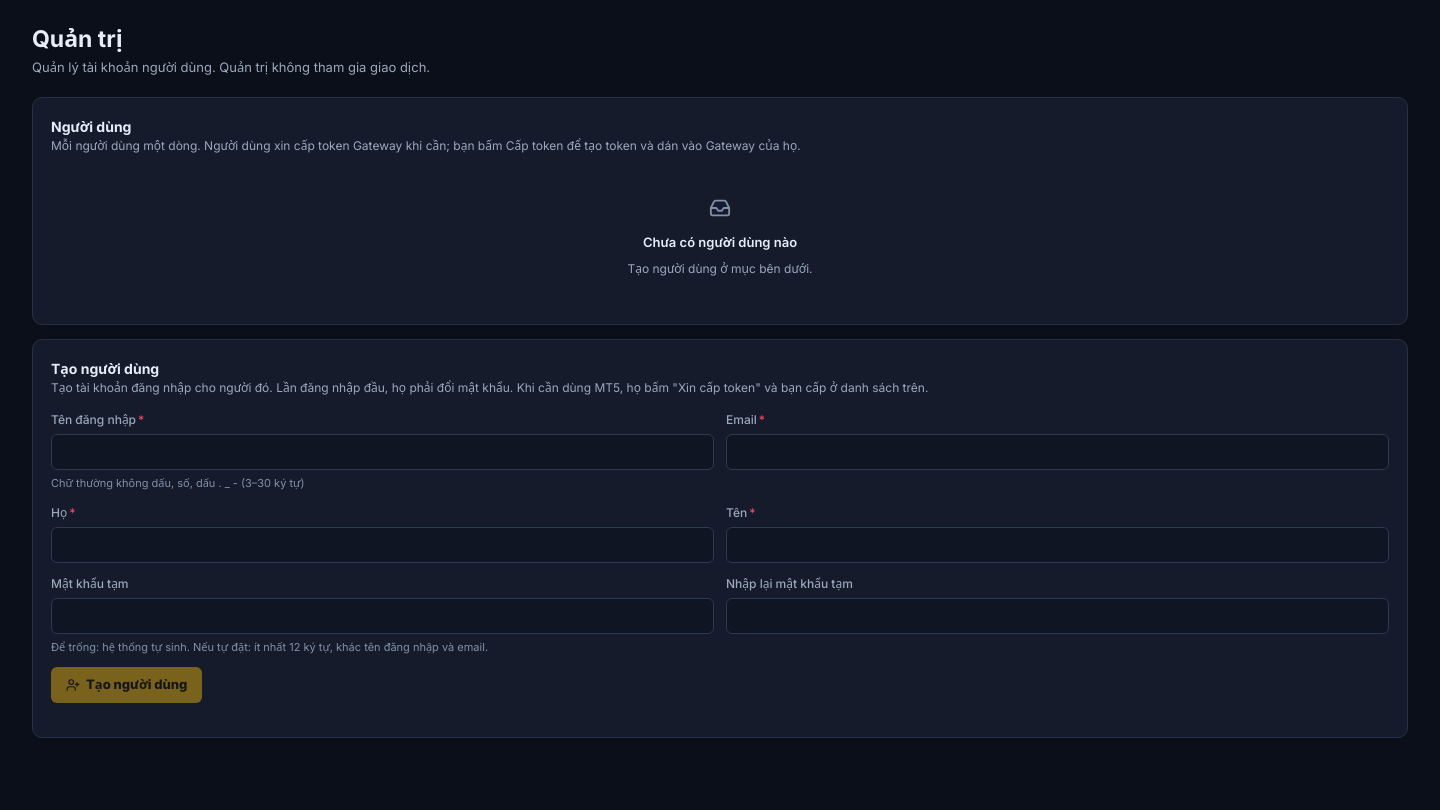
it: Trang Quản trị › bỏ trống mật khẩu: gửi null, hiện mật khẩu tạm hệ thống sinh
Type "lanng" into the field labelled "Tên đăng nhập*" at {"x": 382, "y": 452}, box [51,434,714,470]
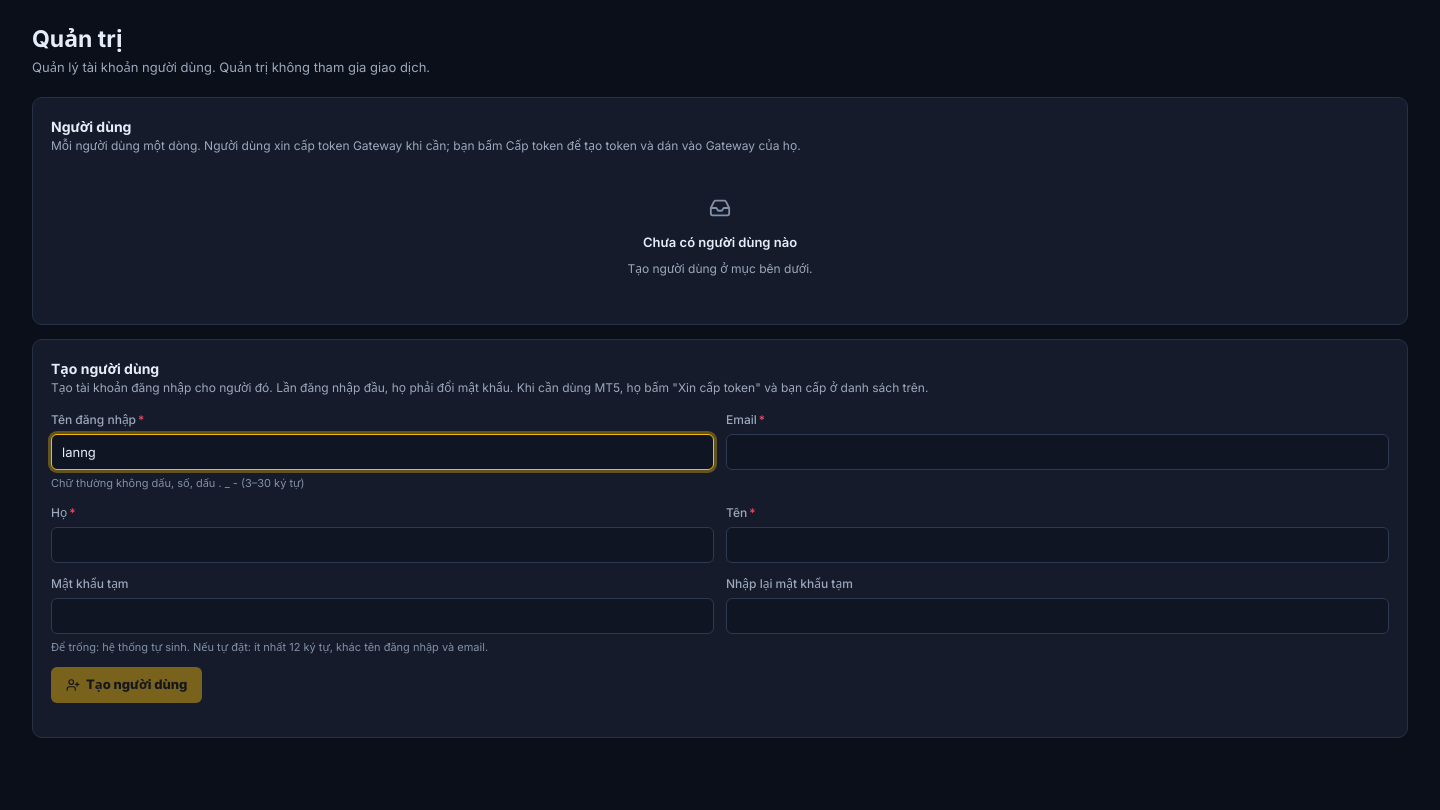
Type "lan@example.com" into the field labelled "Email*" at {"x": 1058, "y": 452}, box [726,434,1389,470]
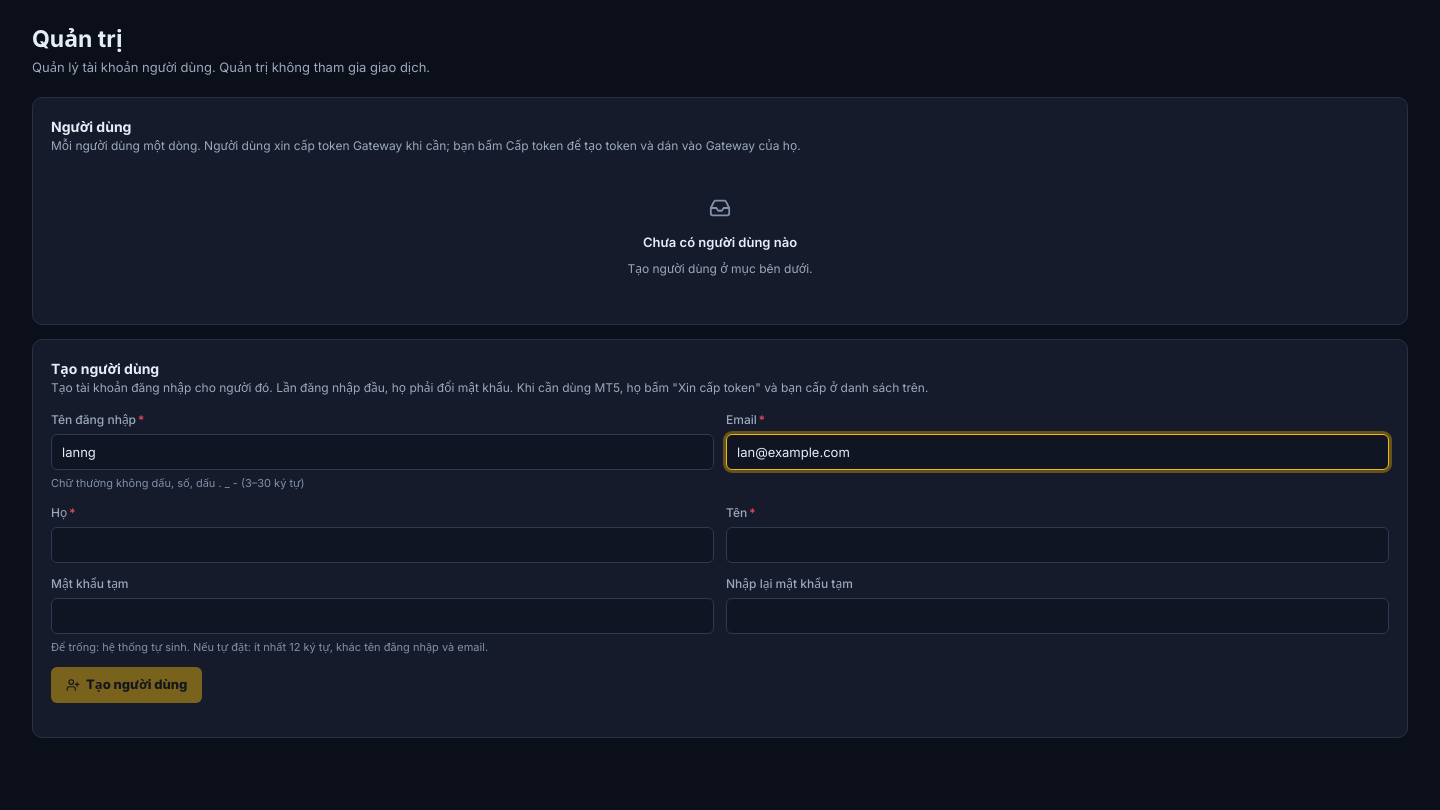
Type "Nguyen" into the field labelled "Họ*" at {"x": 382, "y": 545}, box [51,527,714,563]
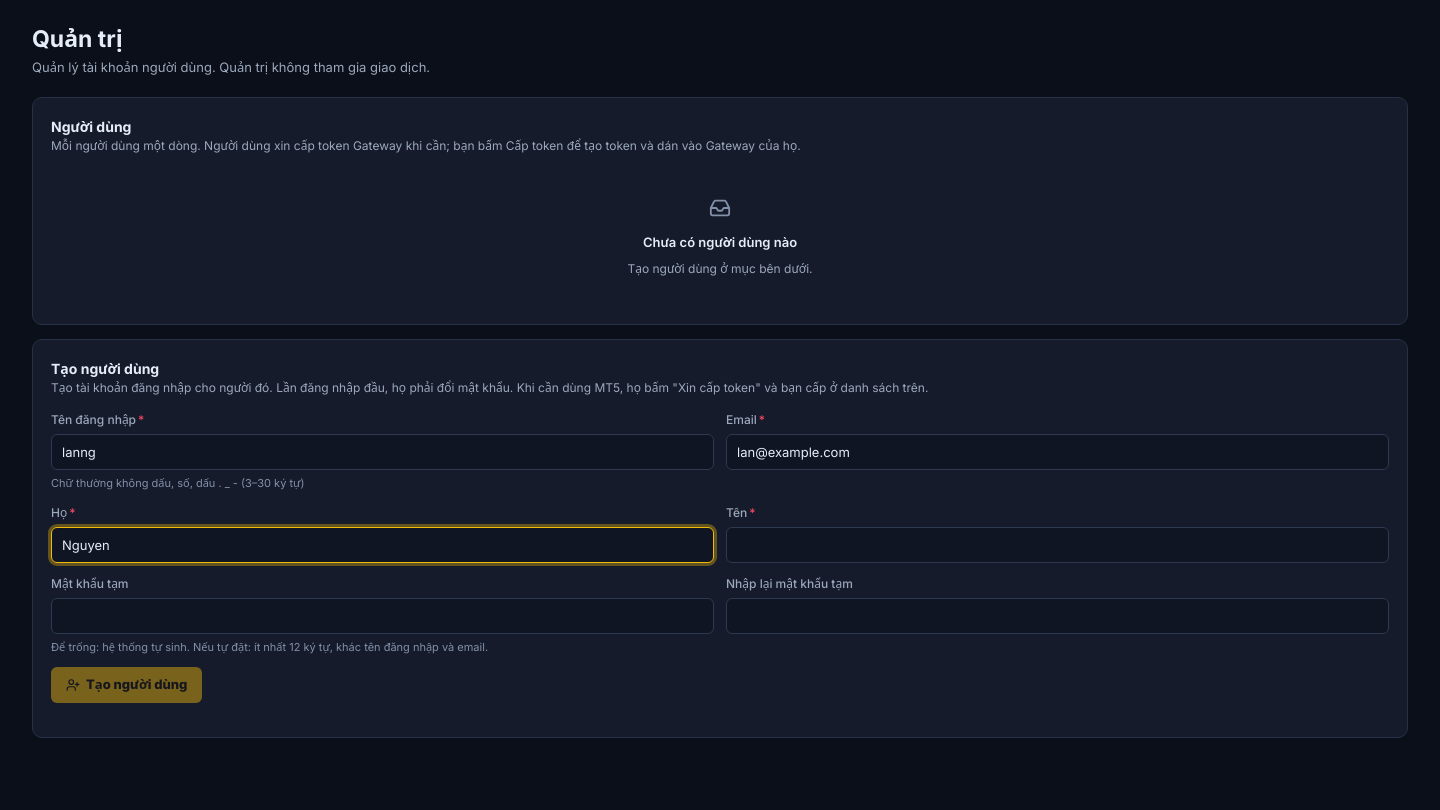
Type "Lan" into the field labelled "Tên*" at {"x": 1058, "y": 545}, box [726,527,1389,563]
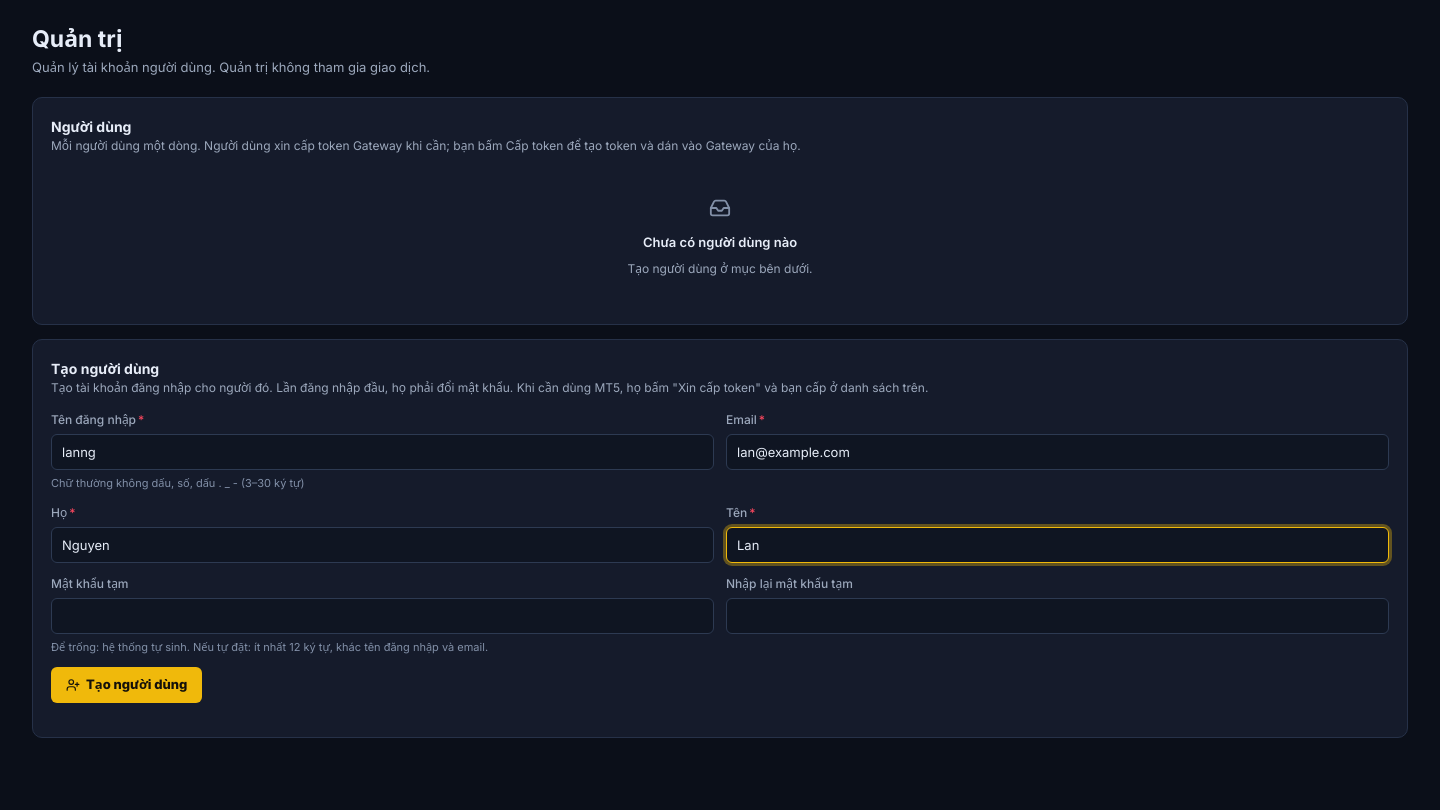
Click the button "Tạo người dùng" at {"x": 127, "y": 685}, box [51,667,202,703]
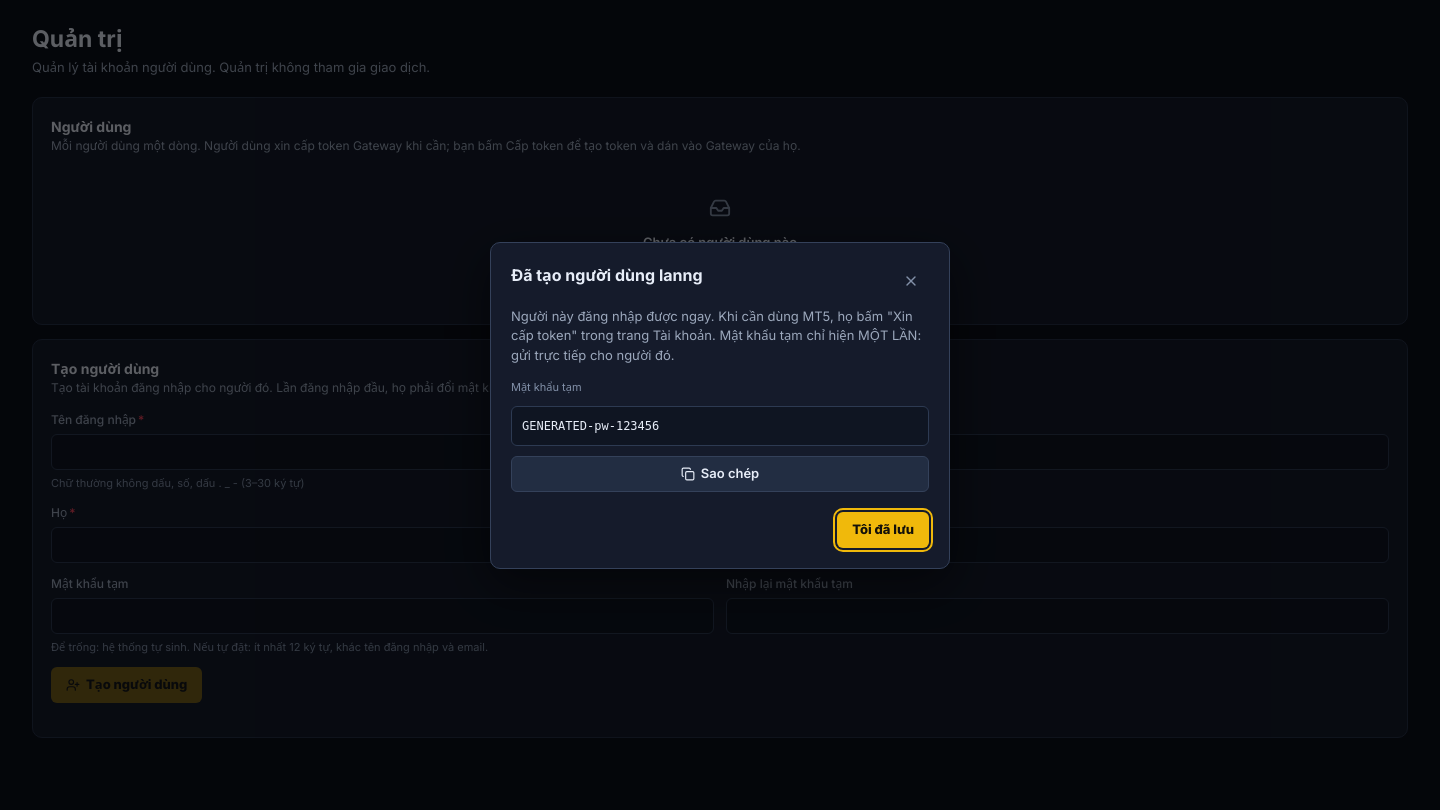
Expected: the text "GENERATED-pw-123456" is shown, [511,406,929,446]
